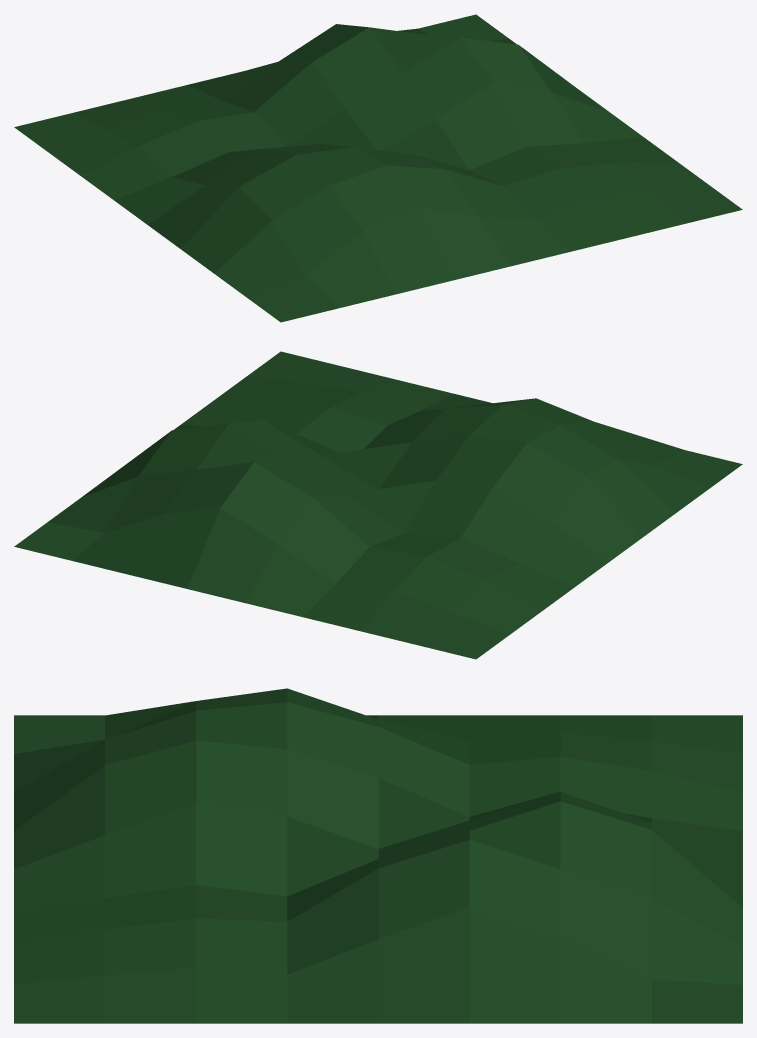
The model's file is Terrain_19_Dark_Green.fbx.
3 views of the same model, one above another, from view 1: azimuth 30°, elevation 25°; view 2: azimuth 150°, elevation 25°; view 3: azimuth 270°, elevation 25° (orthographic). The views are drawn at different scales.
Parts seen in each view (by area): view 1: Terrain_19_Dark_Green; view 2: Terrain_19_Dark_Green; view 3: Terrain_19_Dark_Green.
Part boxes in pixels (bbox=[...]): Terrain_19_Dark_Green: bbox=[14, 14, 742, 322]; Terrain_19_Dark_Green: bbox=[14, 351, 742, 659]; Terrain_19_Dark_Green: bbox=[14, 688, 742, 1023].
Size of the model in its own units: 8000 by 1294 by 8000.
